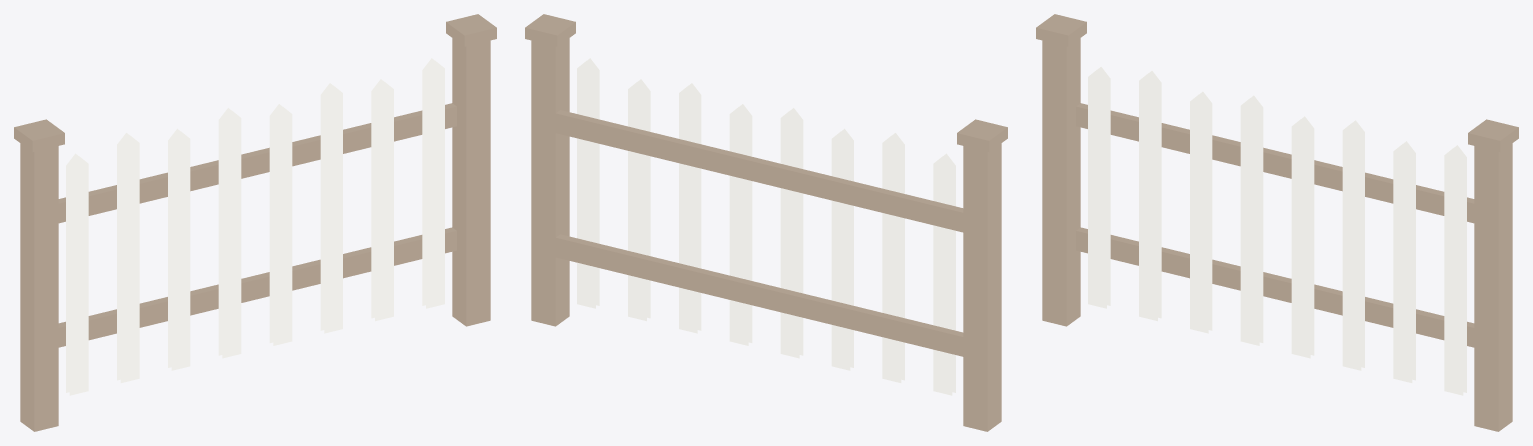
File: Blender_Fence_Picket.glb
3 views of the same model, side by side, from view 1: azimuth 30°, elevation 25°; view 2: azimuth 150°, elevation 25°; view 3: azimuth 330°, elevation 25° (orthographic).
Parts seen in each view (by area): view 1: Blender_Fence_Picket; view 2: Blender_Fence_Picket; view 3: Blender_Fence_Picket.
Boxes of the visible parts, x1=… form: Blender_Fence_Picket: x1=14, y1=14, x2=496, y2=431; Blender_Fence_Picket: x1=525, y1=14, x2=1007, y2=431; Blender_Fence_Picket: x1=1036, y1=14, x2=1518, y2=431.
Size of the model in its own units: 1.72 by 1.04 by 0.12.
